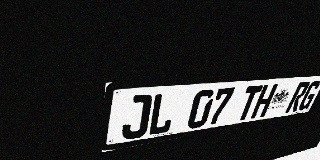0: (186, 89, 216, 130)
7: (205, 87, 235, 126)
G: (296, 80, 320, 111)
H: (250, 84, 278, 119)
J: (121, 94, 153, 141)
L: (147, 92, 178, 136)
R: (285, 81, 311, 113)
T: (235, 85, 263, 121)
